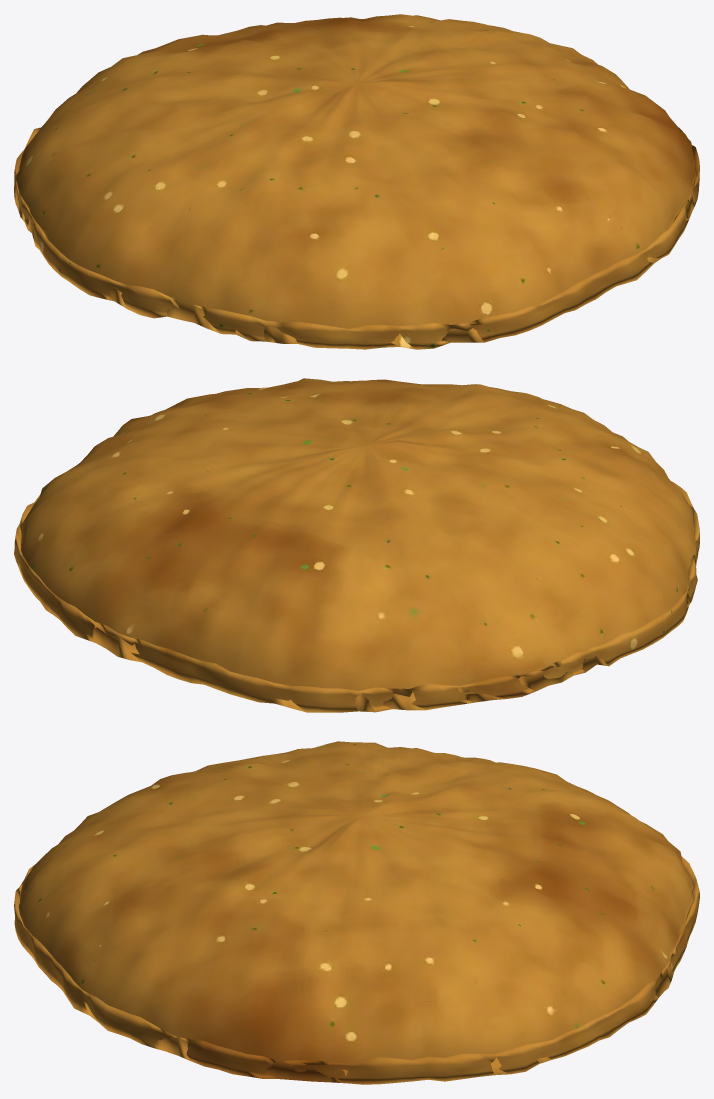
The model's file is filling_aloo.glb.
3 renders of one model, top to bottom at view 1: azimuth 30°, elevation 25°; view 2: azimuth 150°, elevation 25°; view 3: azimuth 270°, elevation 25°, orthographic.
Visible parts, largest first — view 1: EX_Filling_aloo; view 2: EX_Filling_aloo; view 3: EX_Filling_aloo.
Boxes of the visible parts, x1,y1,x2,y2 form: EX_Filling_aloo: (14,14,699,349); EX_Filling_aloo: (14,378,699,712); EX_Filling_aloo: (14,741,699,1084).
Bounding box in the file's own units: 0.0826 × 0.0168 × 0.0818.
1 material, 1 textured.
